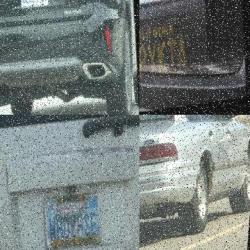LicensePlate: (140, 14, 198, 86), (41, 191, 106, 250), (19, 0, 52, 16)
